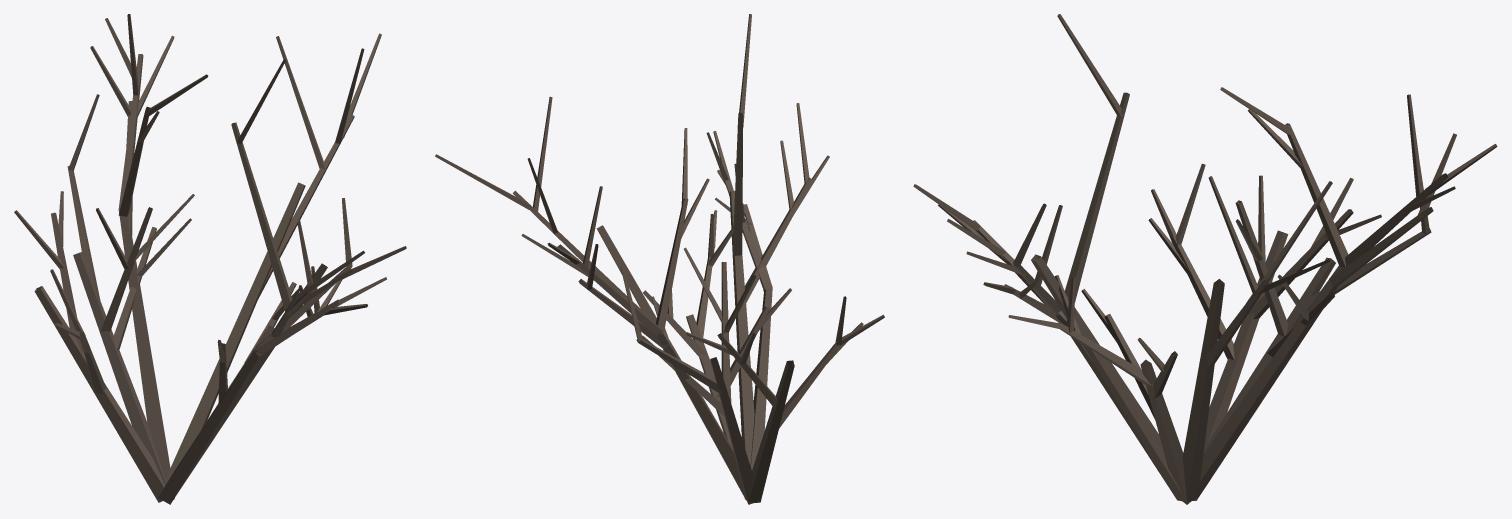
Rendered from ZR_DeadShrub.fbx.
The picture shows the model from 3 angles, left to right: view 1: azimuth 30°, elevation 25°; view 2: azimuth 150°, elevation 25°; view 3: azimuth 270°, elevation 25°; orthographic projection. The views are drawn at different scales.
Parts seen in each view (by area): view 1: ZR_DeadShrub; view 2: ZR_DeadShrub; view 3: ZR_DeadShrub.
Boxes of the visible parts, x1=… form: ZR_DeadShrub: x1=14, y1=14, x2=406, y2=504; ZR_DeadShrub: x1=435, y1=14, x2=884, y2=504; ZR_DeadShrub: x1=913, y1=14, x2=1497, y2=504.
Size of the model in its own units: 1.16 by 1.28 by 1.31.
